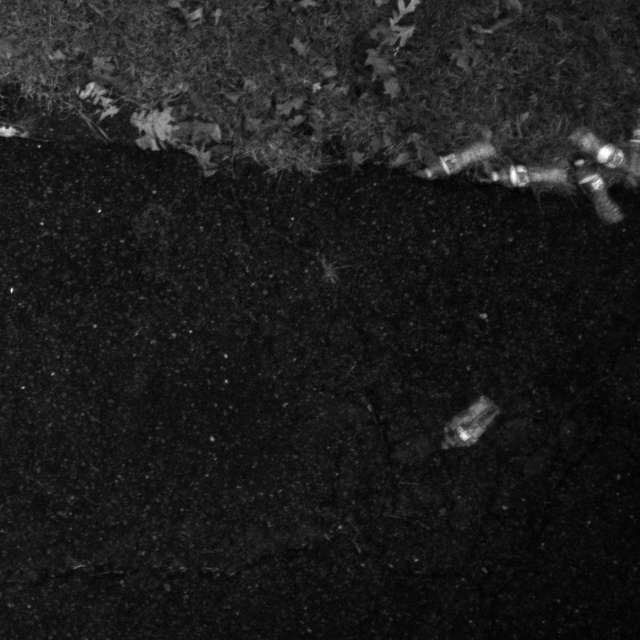bottle: (417, 129, 503, 182), (567, 150, 622, 231), (474, 154, 574, 194), (438, 393, 502, 455), (567, 128, 640, 175)
